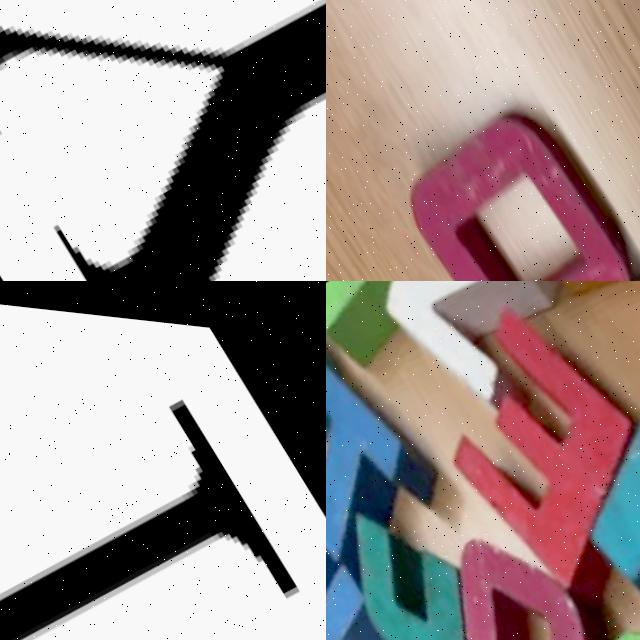E: (382, 281, 640, 640)
J: (535, 316, 640, 640)
K: (326, 465, 574, 640)
N: (326, 434, 420, 640)
O: (372, 67, 640, 281)
T: (0, 281, 326, 640)
U: (365, 470, 640, 640)
Y: (0, 0, 326, 281)
Z: (350, 281, 640, 474)
